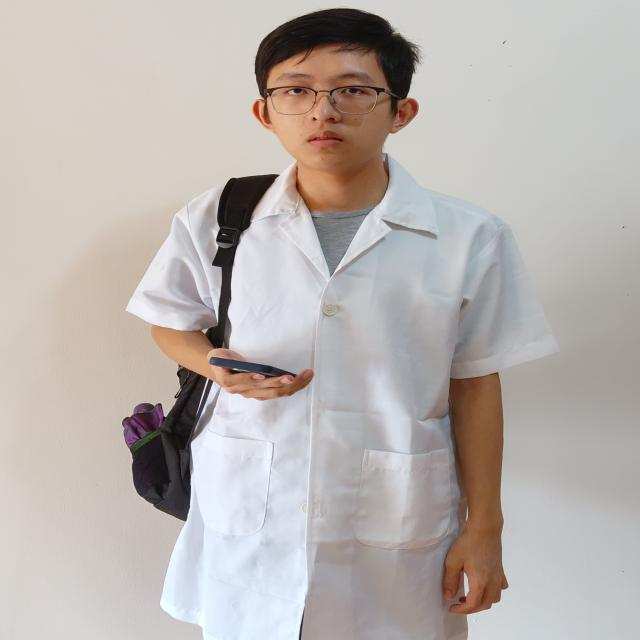person_with_labcoat: (123, 9, 557, 640)
